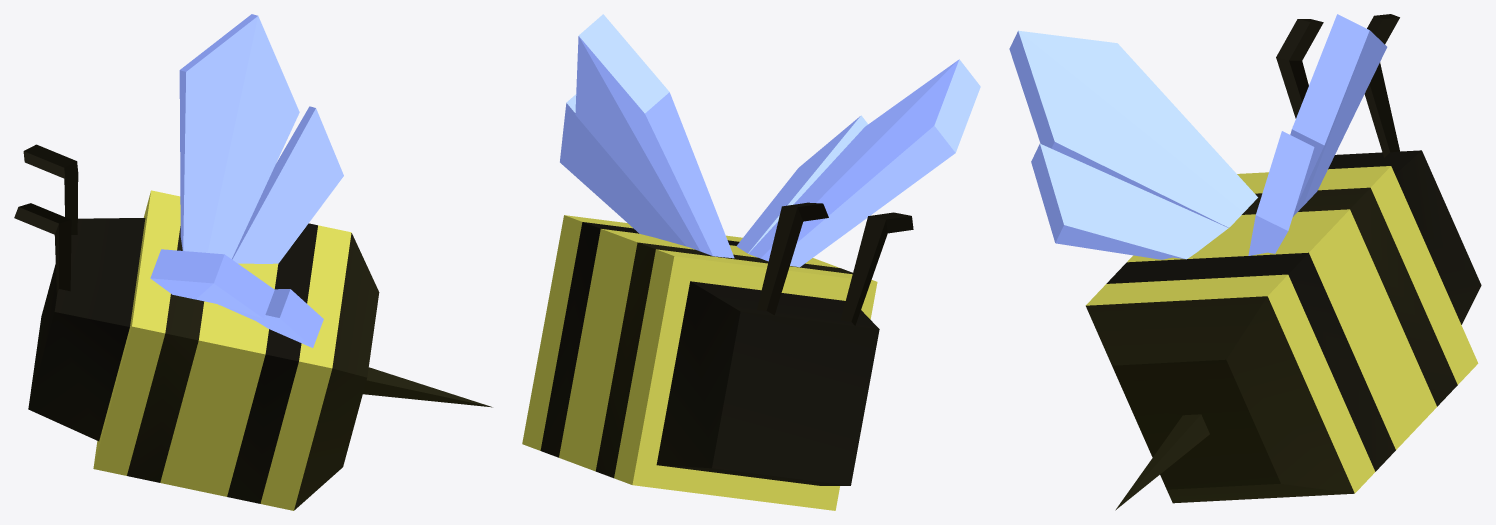
Rendered from Bee-3_TecnicalStackIsland.glb.
The picture shows the model from 3 angles, left to right: view 1: azimuth 30°, elevation 25°; view 2: azimuth 150°, elevation 25°; view 3: azimuth 270°, elevation 25°; orthographic projection. The views are drawn at different scales.
Visible parts, largest first — view 1: Bee_3; view 2: Bee_3; view 3: Bee_3.
Part boxes in pixels (x1,y1,x2,y2): Bee_3: (14,14,492,510); Bee_3: (522,14,980,510); Bee_3: (1009,14,1481,510).
Bounding box in the file's own units: 0.2613 × 0.2744 × 0.2307.
Materials: 1 (1 with a texture image).
